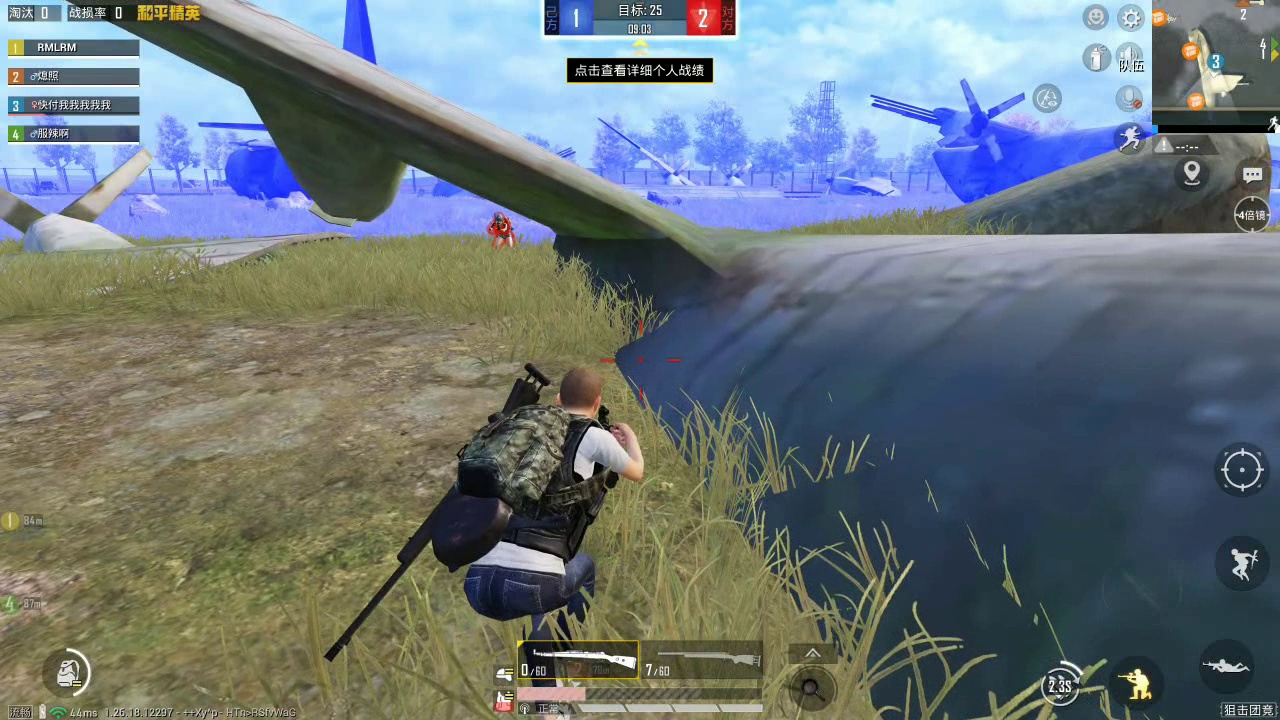enemy: (488, 210, 517, 246)
